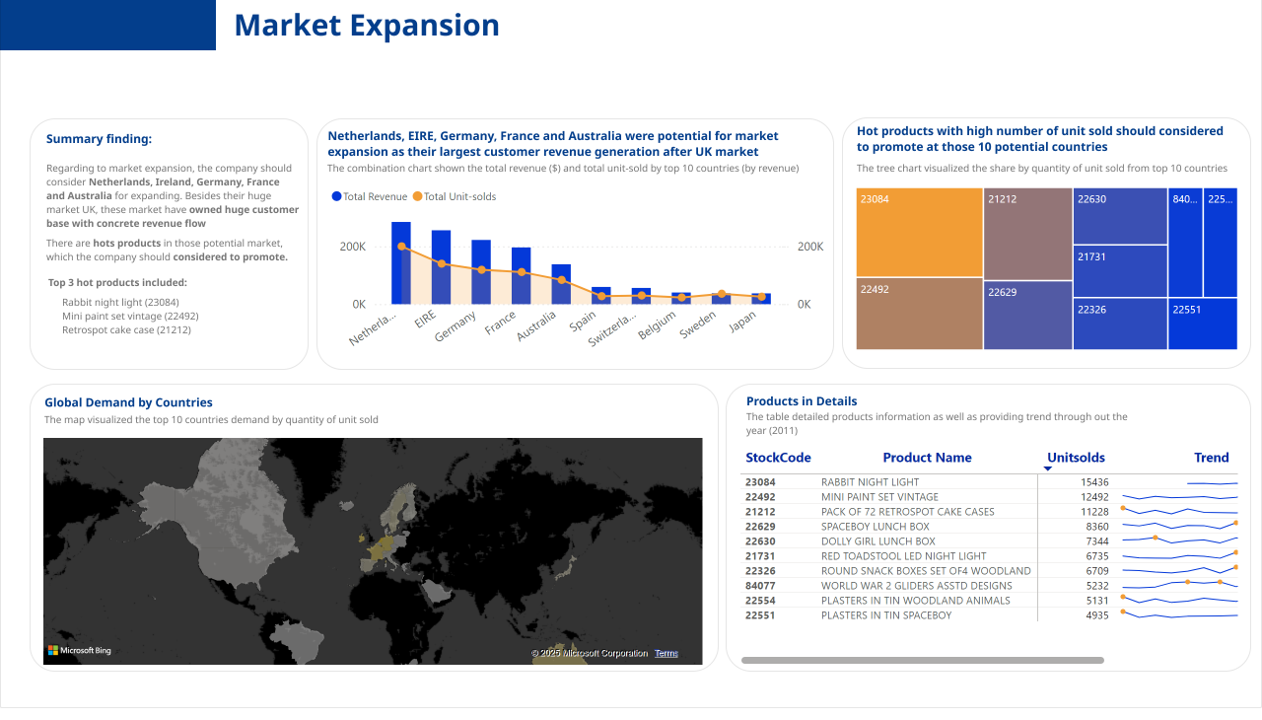

Layout of this report page (visuals, bound fields, positions):
{"tool":"powerbi","page":{"name":"StoryTelling_page2","canvas":[1280,720],"ordinal":1},"visuals":[{"type":"lineClusteredColumnComboChart","title":"Total Revenue and Unit-solds by Country","fields":{"Category":["Online Retail.Country"],"Y":["Online Retail.Total Revenue","select"],"Y2":["Sum(Online Retail.Quantity)"]},"box":[331.1,180,510,185.6],"z":0},{"type":"treemap","title":"Total Unit-solds by StockCode","fields":{"Group":["Online Retail.StockCode"],"Values":["Sum(Online Retail.Quantity)"]},"box":[862.5,185,397.5,175],"z":1000},{"type":"pivotTable","fields":{"Rows":["Online Retail.StockCode","Product_Name.Product Name"],"Values":["Sum(Online Retail.Quantity)","SparklineData(Sum(Online Retail.Quantity)_[Date.Month])"]},"box":[745.7,448.6,514.3,230],"z":2000},{"type":"filledMap","fields":{"Category":["Online Retail.Country"]},"box":[38.6,438.6,678.6,240],"z":3000}]}

Visuals, with their boxes in screenshot pixels (x1, y1, x2, y2), scaled from the page's 1280x720 canvas onto the 1262x720 screenshot:
"Total Revenue and Unit-solds by Country" lineClusteredColumnComboChart: <box>326,180,829,366</box>
"Total Unit-solds by StockCode" treemap: <box>850,185,1242,360</box>
pivotTable - Online Retail.StockCode x Product_Name.Product Name: <box>735,449,1242,679</box>
filledMap - Online Retail.Country: <box>38,439,707,679</box>
